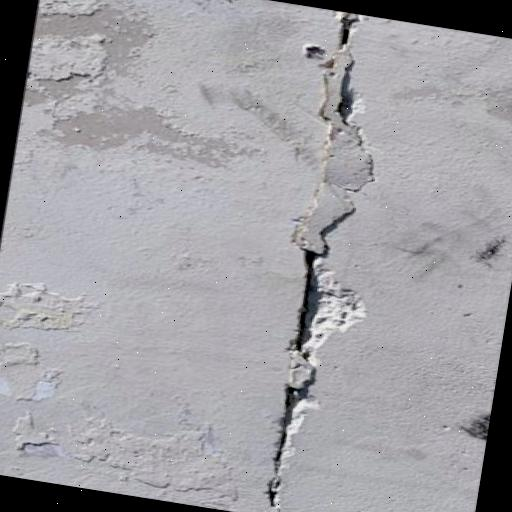spalling: (254, 246, 371, 510)
